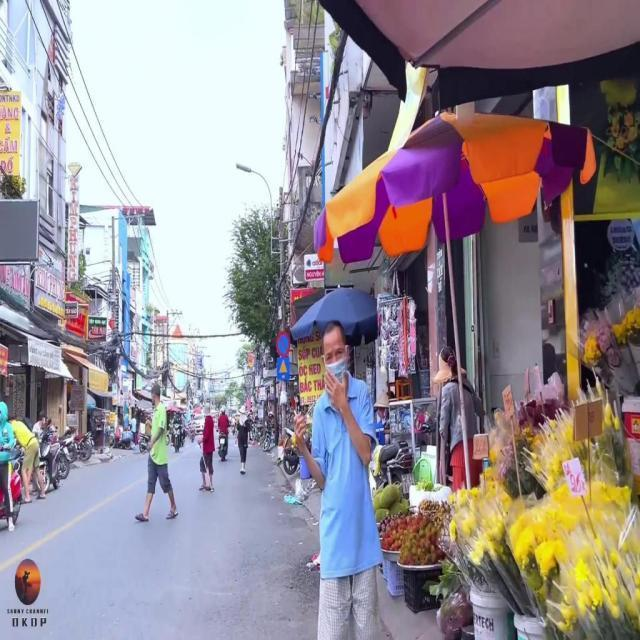106-cam-oto-tai: (128, 390, 132, 406)
131a-cam-do-xe: (276, 332, 292, 356)
442-cho: (276, 357, 290, 381)
